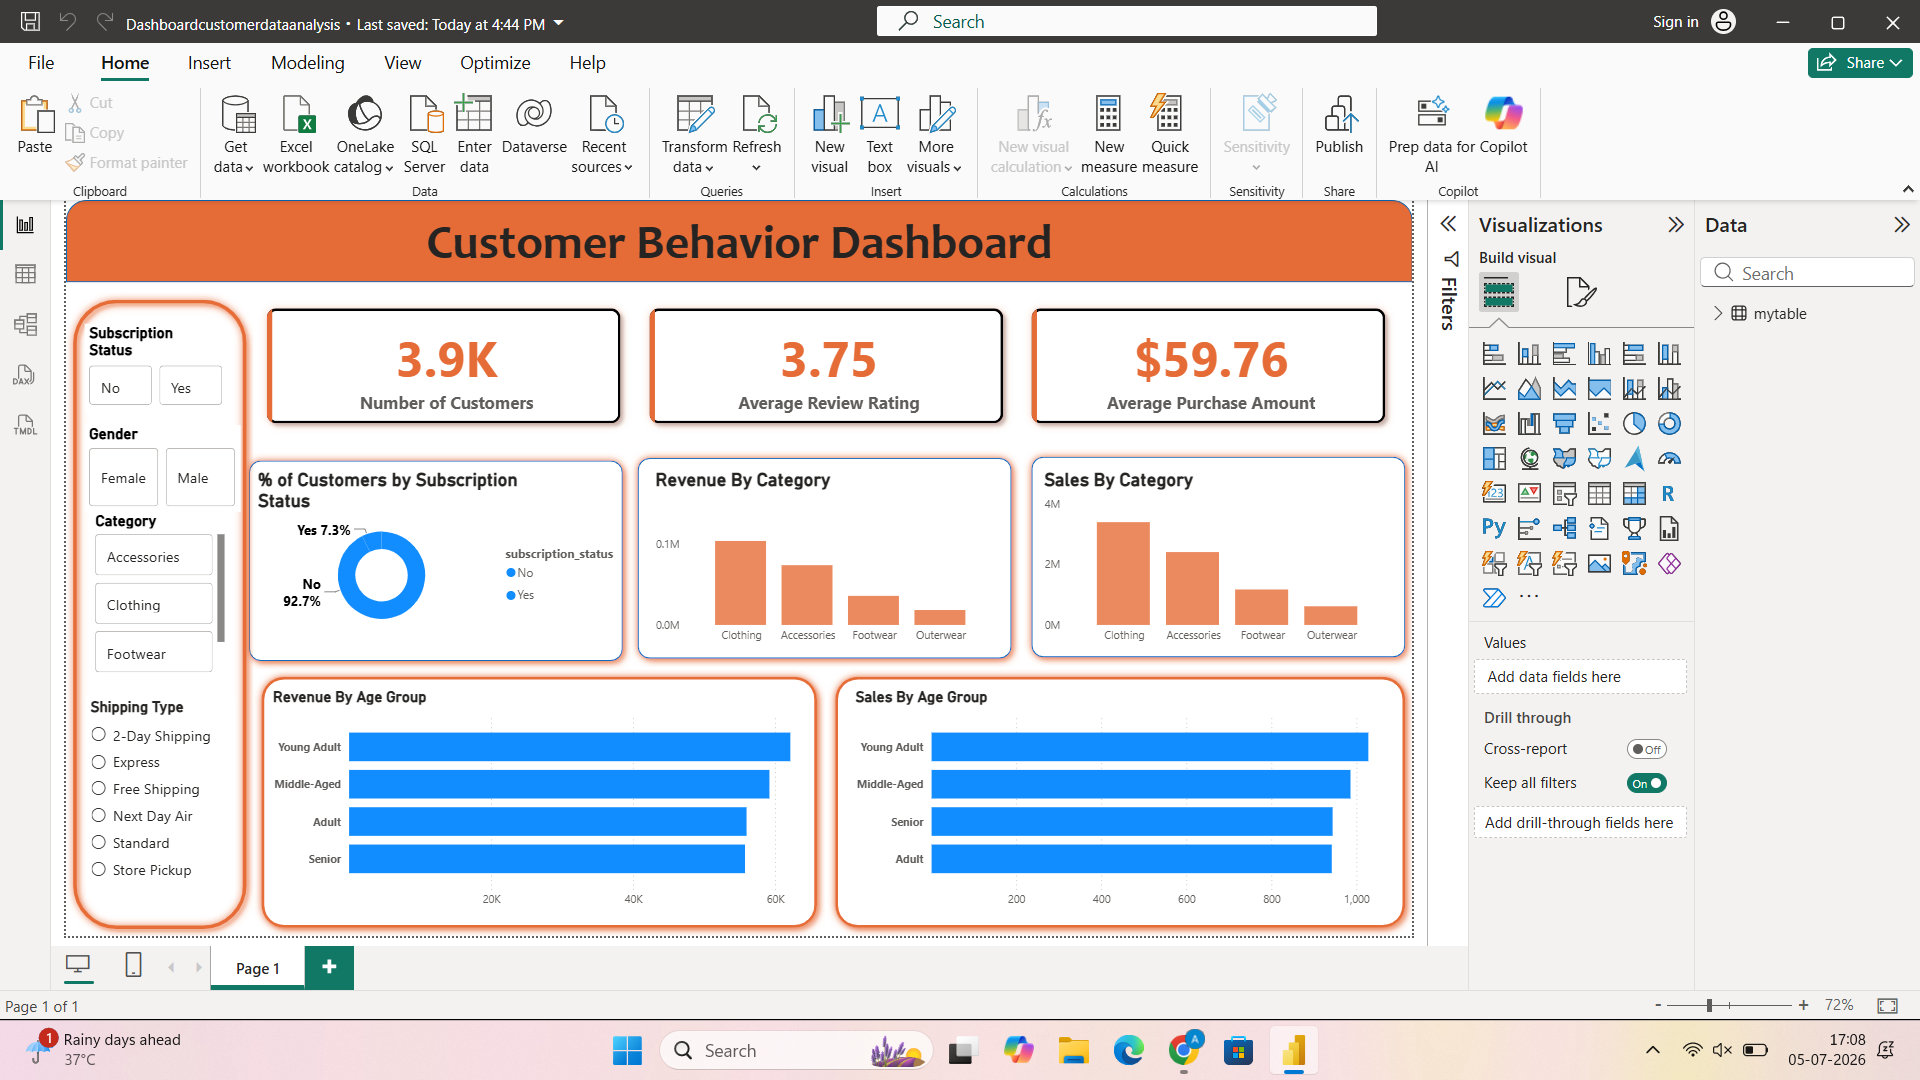

What the dashboard file says about the page in this screenshot:
{"tool":"powerbi","page":{"name":"Page 1","canvas":[1500,820],"ordinal":0},"visuals":[{"type":"cardVisual","fields":{"Data":["mytable.Number of Customers","mytable.Average Review Rating","mytable.Average Purchase Amount"]},"box":[194.6,91.7,1305.8,186.5],"z":0},{"type":"shape","box":[0,0,1500.3,91.7],"z":1000},{"type":"textbox","box":[0,9.6,1500.3,75.6],"z":2000},{"type":"shape","box":[628.8,278.2,434.2,241.2],"z":3000},{"type":"shape","box":[1066.1,276.6,434.2,241.2],"z":4000},{"type":"shape","box":[194.6,281.4,434.2,241.2],"z":5000},{"type":"group","id":"g1","title":"Group 1","box":[209,299.1,419.7,186.5],"z":6000},{"type":"donutChart","title":"% of Customers by Subscription Status","fields":{"Category":["mytable.subscription_status"],"Y":["Sum(mytable.customer_id)"]},"box":[209,299.1,419.7,186.5],"z":7000,"group":"g1"},{"type":"clusteredColumnChart","title":"Revenue By Category","fields":{"Y":["Sum(mytable.purchase_amount_usd)"],"Category":["mytable.category"]},"box":[651.3,299.1,387.5,204.2],"z":7000},{"type":"clusteredColumnChart","title":"Sales  By Category","fields":{"Y":["Sum(mytable.customer_id)"],"Category":["mytable.category"]},"box":[1085.4,299.1,392.4,204.2],"z":8000},{"type":"shape","box":[0,102.9,209,717.2],"z":9000},{"type":"advancedSlicerVisual","title":"Subscription Status","fields":{"Values":["mytable.subscription_status"]},"box":[20.9,138.3,159.2,96.5],"z":10000},{"type":"advancedSlicerVisual","title":"Gender","fields":{"Values":["mytable.gender"]},"box":[20.9,250.9,173.7,96.5],"z":11000},{"type":"advancedSlicerVisual","title":"Category","fields":{"Values":["mytable.category"]},"box":[27.3,347.3,154.4,184.9],"z":12000},{"type":"listSlicer","title":"Shipping Type","fields":{"Values":["mytable.shipping_type"]},"box":[22.5,554.8,165.6,223.5],"z":13000},{"type":"shape","box":[209,522.6,636.8,297.5],"z":14000},{"type":"clusteredBarChart","title":"Revenue By Age Group","fields":{"Y":["Sum(mytable.purchase_amount_usd)"],"Category":["mytable.age_group"]},"box":[225.1,543.5,596.6,254.1],"z":15000},{"type":"shape","box":[847.5,522.6,652.9,297.5],"z":16000},{"type":"clusteredBarChart","title":"Sales By Age Group","fields":{"Y":["CountNonNull(mytable.customer_id)"],"Category":["mytable.age_group"]},"box":[874.8,543.5,596.6,254.1],"z":16001}]}

Visuals, with their boxes on the page's 1500x820 design canvas (x1, y1, x2, y2). These are canvas units, not pixel positions in the 1920x1080 screenshot, which may show the page scaled, cropped or inside an application window:
cardVisual - mytable.Number of Customers x mytable.Average Review Rating: l=195, t=92, r=1500, b=278
shape: l=0, t=0, r=1500, b=92
textbox: l=0, t=10, r=1500, b=85
shape: l=629, t=278, r=1063, b=519
shape: l=1066, t=277, r=1500, b=518
shape: l=195, t=281, r=629, b=523
"Group 1" group: l=209, t=299, r=629, b=486
"% of Customers by Subscription Status" donutChart: l=209, t=299, r=629, b=486
"Revenue By Category" clusteredColumnChart: l=651, t=299, r=1039, b=503
"Sales  By Category" clusteredColumnChart: l=1085, t=299, r=1478, b=503
shape: l=0, t=103, r=209, b=820
"Subscription Status" advancedSlicerVisual: l=21, t=138, r=180, b=235
"Gender" advancedSlicerVisual: l=21, t=251, r=195, b=347
"Category" advancedSlicerVisual: l=27, t=347, r=182, b=532
"Shipping Type" listSlicer: l=22, t=555, r=188, b=778
shape: l=209, t=523, r=846, b=820
"Revenue By Age Group" clusteredBarChart: l=225, t=544, r=822, b=798
shape: l=848, t=523, r=1500, b=820
"Sales By Age Group" clusteredBarChart: l=875, t=544, r=1471, b=798
